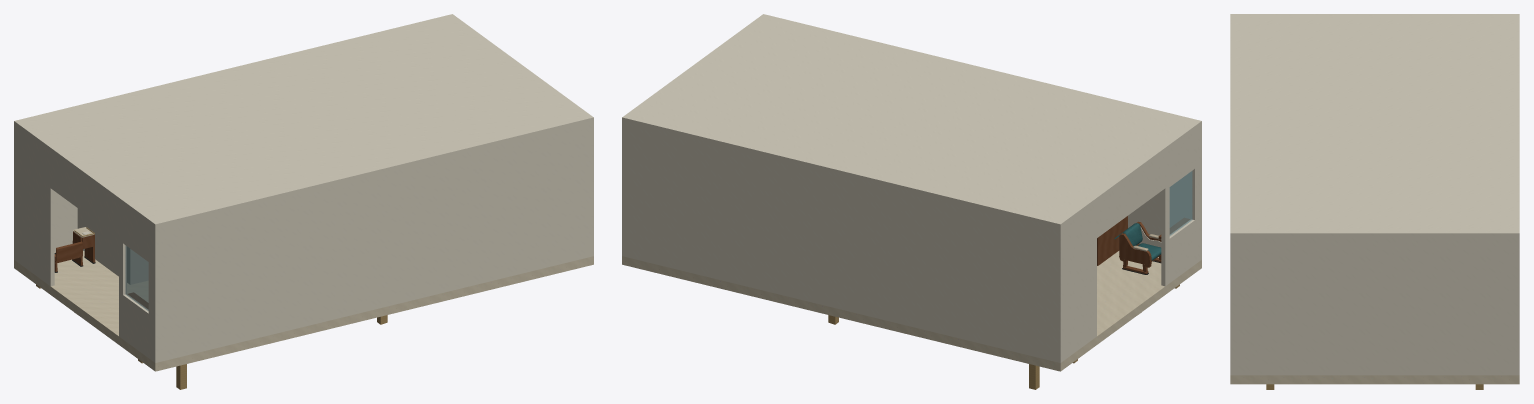
The model's file is NightGardenD15Specialty_482_r002.glb.
The picture shows the model from 3 angles, left to right: view 1: azimuth 30°, elevation 25°; view 2: azimuth 150°, elevation 25°; view 3: azimuth 270°, elevation 25°; orthographic projection. The views are drawn at different scales.
Parts seen in each view (by area): view 1: NG482_RuntimeBatch_001, NG482_RoomFloor, NG482_ScreenedStreetGlass, NG482_RuntimeBatch_013; view 2: NG482_RuntimeBatch_001, NG482_RoomFloor, NG482_ScreenedStreetGlass, NG482_RuntimeBatch_049, NG482_RuntimeBatch_002; view 3: NG482_RuntimeBatch_001, NG482_RoomFloor.
Boxes of the visible parts, x1,y1,x2,y2 form: NG482_RuntimeBatch_001: (14, 14, 593, 362); NG482_RoomFloor: (14, 250, 593, 371); NG482_ScreenedStreetGlass: (125, 245, 148, 310); NG482_RuntimeBatch_013: (54, 231, 95, 271); NG482_RuntimeBatch_001: (622, 14, 1201, 362); NG482_RoomFloor: (622, 251, 1201, 371); NG482_ScreenedStreetGlass: (1169, 171, 1192, 235); NG482_RuntimeBatch_049: (1119, 221, 1161, 274); NG482_RuntimeBatch_002: (1097, 216, 1190, 265); NG482_RuntimeBatch_001: (1230, 14, 1519, 375); NG482_RoomFloor: (1230, 375, 1519, 384).
Bounding box in the file's own units: 12.9 × 5.31 × 7.2.
Materials: 64 (49 with a texture image).
